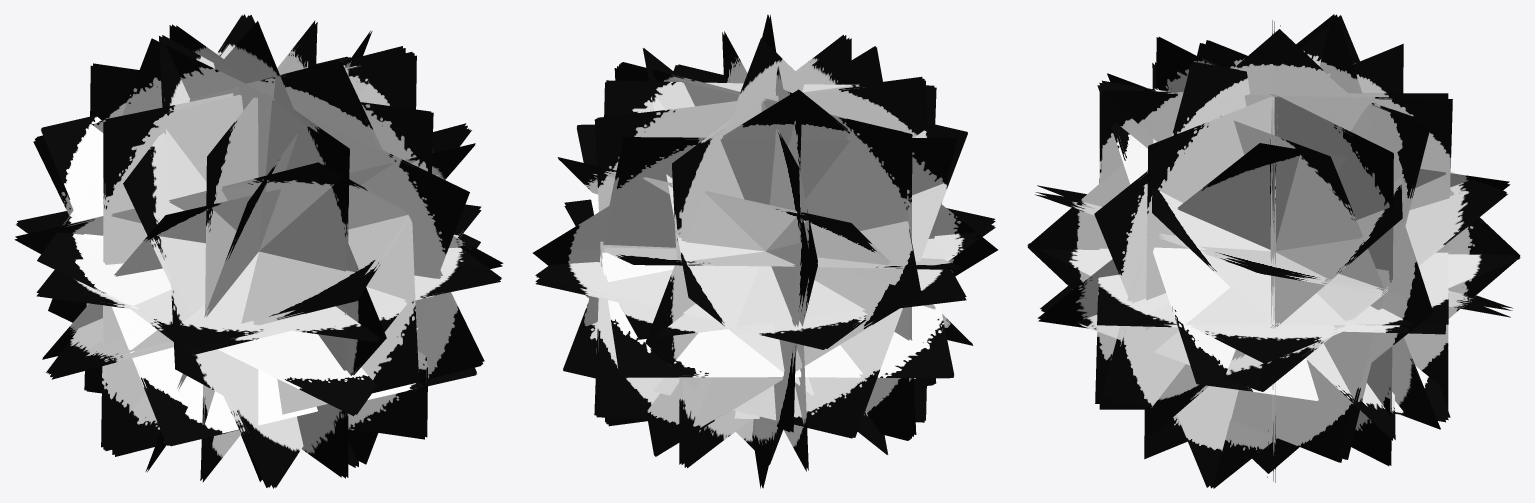
File: white_core.fbx
The picture shows the model from 3 angles, left to right: view 1: azimuth 30°, elevation 25°; view 2: azimuth 150°, elevation 25°; view 3: azimuth 270°, elevation 25°; orthographic projection. The views are drawn at different scales.
Parts seen in each view (by area): view 1: node_92dc0761_67d7_47c2_9da7_80a44dbe6e80_mesh0; view 2: node_92dc0761_67d7_47c2_9da7_80a44dbe6e80_mesh0; view 3: node_92dc0761_67d7_47c2_9da7_80a44dbe6e80_mesh0.
Boxes of the visible parts, bbox=[...] form: node_92dc0761_67d7_47c2_9da7_80a44dbe6e80_mesh0: bbox=[14, 14, 503, 488]; node_92dc0761_67d7_47c2_9da7_80a44dbe6e80_mesh0: bbox=[533, 14, 997, 488]; node_92dc0761_67d7_47c2_9da7_80a44dbe6e80_mesh0: bbox=[1027, 14, 1520, 488].
Bounding box in the file's own units: 706 × 707 × 707.
1 material, 1 textured.
